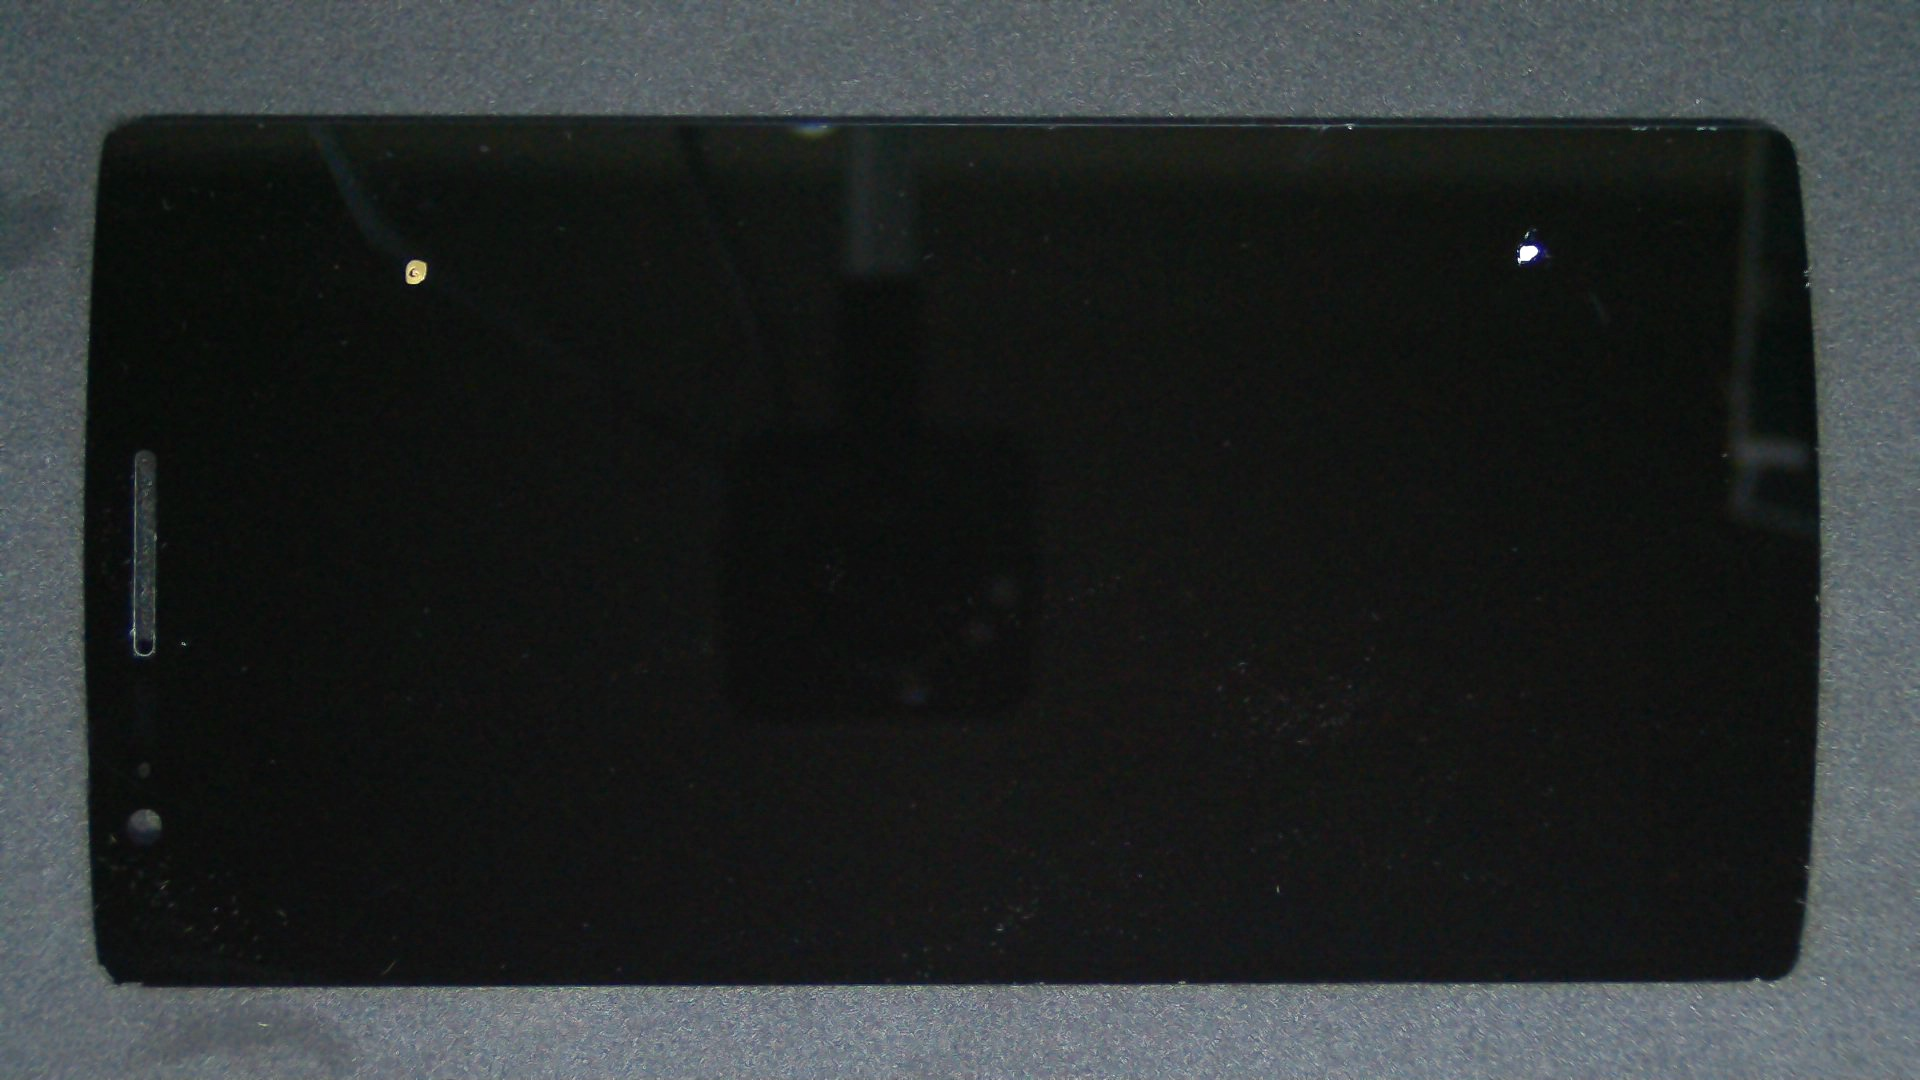oil: (760, 121, 1920, 367), (767, 113, 1920, 343), (207, 128, 618, 388)
